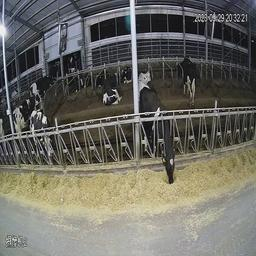cow: (137, 86, 186, 205), (30, 108, 63, 178), (7, 88, 44, 130), (178, 52, 204, 104), (26, 69, 58, 106), (100, 71, 123, 112), (74, 71, 92, 95), (138, 62, 154, 87), (119, 61, 132, 87)
